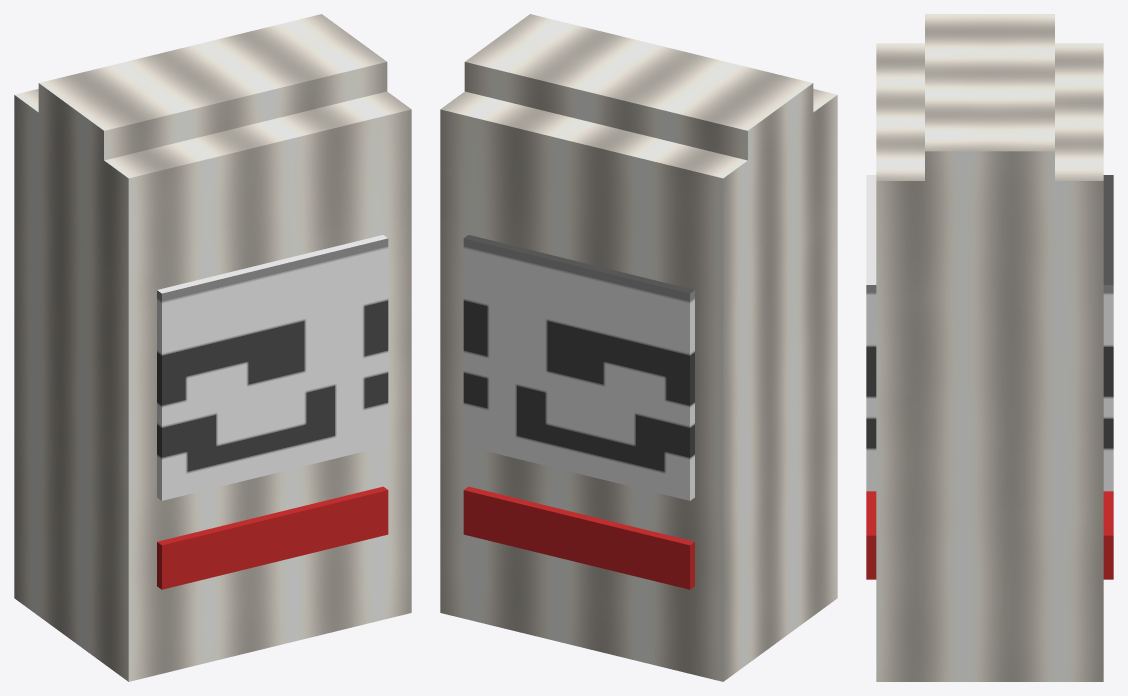
Rendered from zucchero.obj.
3 views of the same model, side by side, from view 1: azimuth 30°, elevation 25°; view 2: azimuth 150°, elevation 25°; view 3: azimuth 270°, elevation 25° (orthographic).
Parts seen in each view (by area): view 1: zucchero; view 2: zucchero; view 3: zucchero.
Part boxes in pixels (x1,y1,x2,y2): zucchero: [14, 14, 411, 681]; zucchero: [440, 14, 837, 681]; zucchero: [866, 14, 1113, 681].
Bounding box in the file's own units: 0.1 × 0.18 × 0.076.
Materials: 4 (3 with a texture image).
